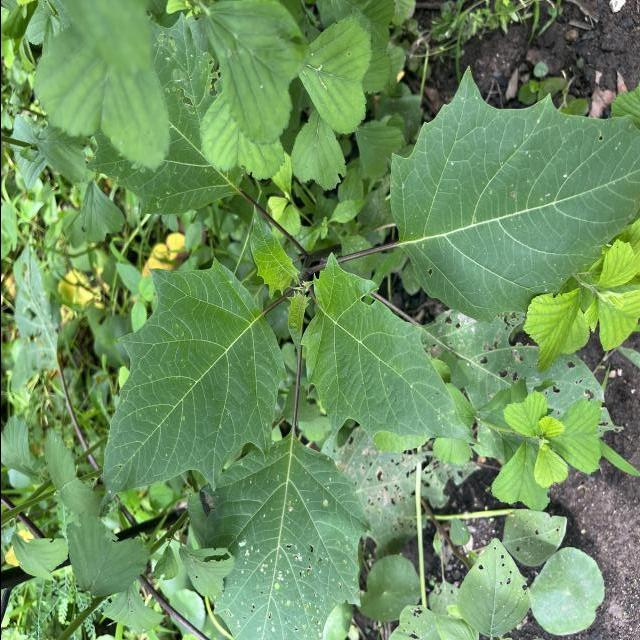Datura metal linn: (386, 62, 640, 326), (92, 254, 288, 521), (297, 250, 489, 449), (246, 200, 302, 302)
